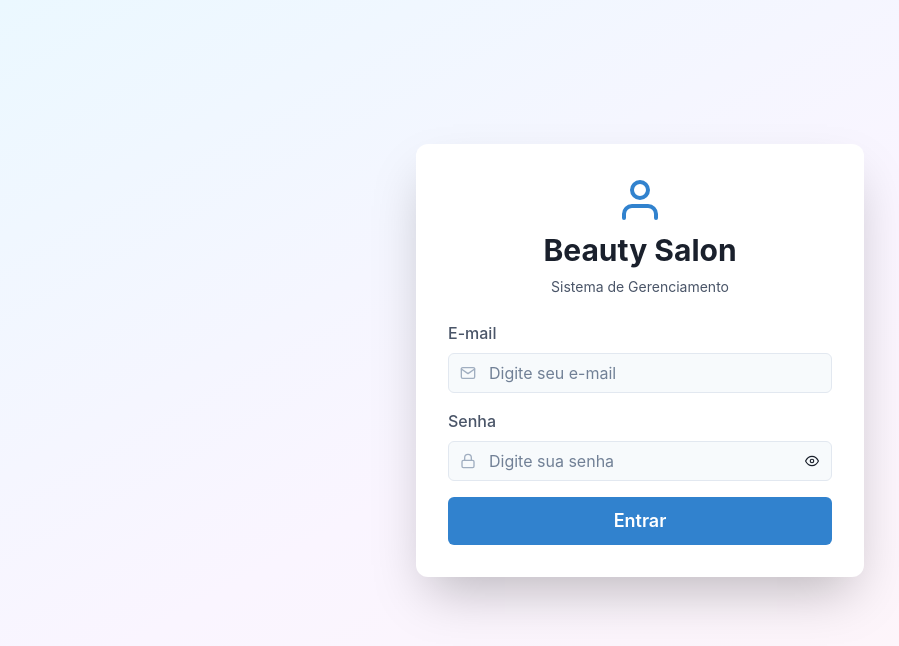
it: 🔐 Login - Autenticação › ✅ Validação de Formulário › T006: Deve validar senha obrigatória
In the field with placeholder "Digite seu e-mail": [640, 372] box [448,352,832,392], type "admin@beautysalon.com"
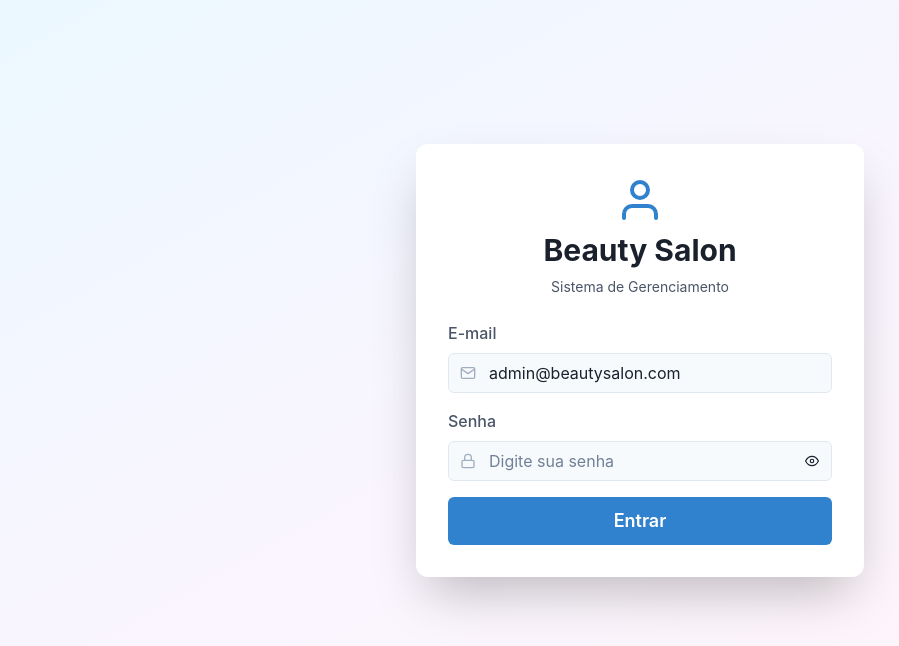
Click the button "Entrar": [640, 520] box [448,496,832,544]
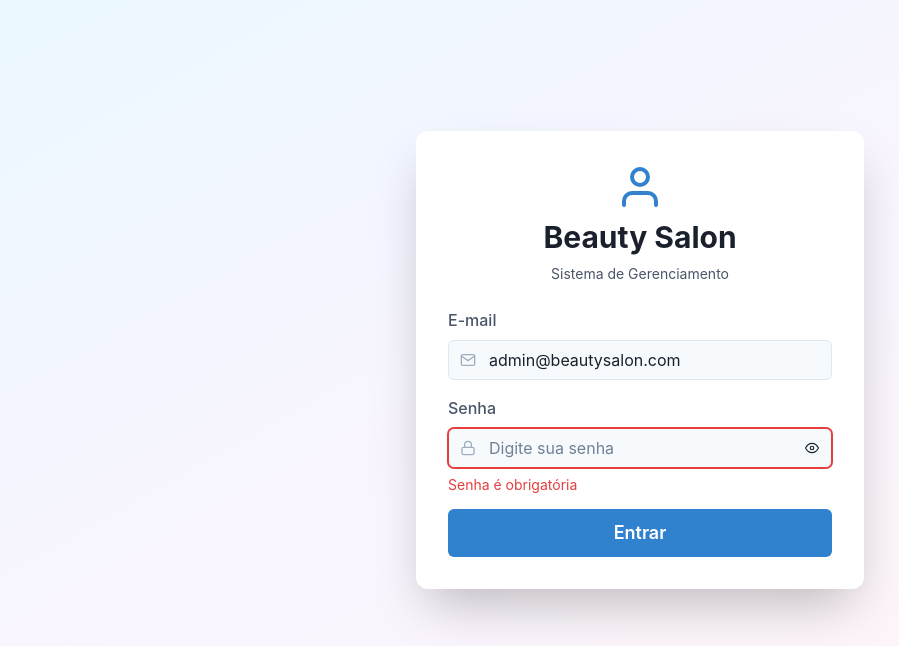
Now the text "Senha é obrigatória" is shown, box [448,476,577,493]
